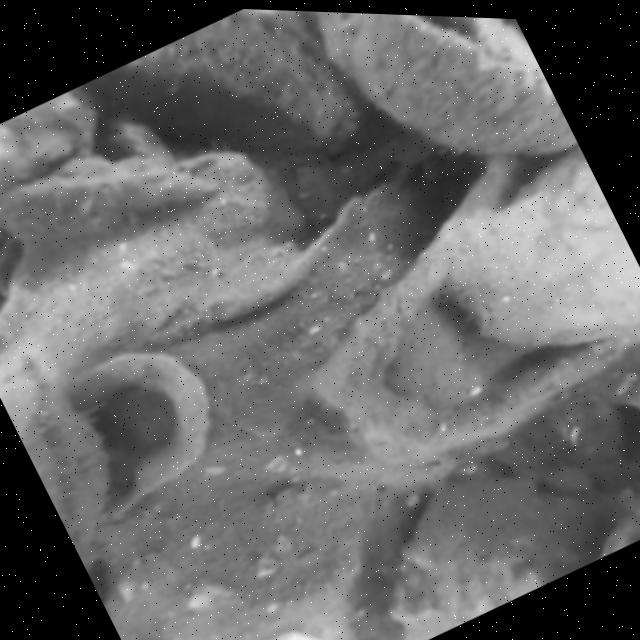Oyster-Closed: (0, 349, 107, 565)
Oyster-Indeterminate: (310, 143, 635, 460), (0, 152, 303, 402), (87, 10, 359, 156), (319, 12, 574, 156), (450, 164, 640, 350), (49, 351, 212, 527), (388, 474, 585, 618), (0, 158, 211, 246), (227, 585, 357, 640), (588, 347, 640, 411)
